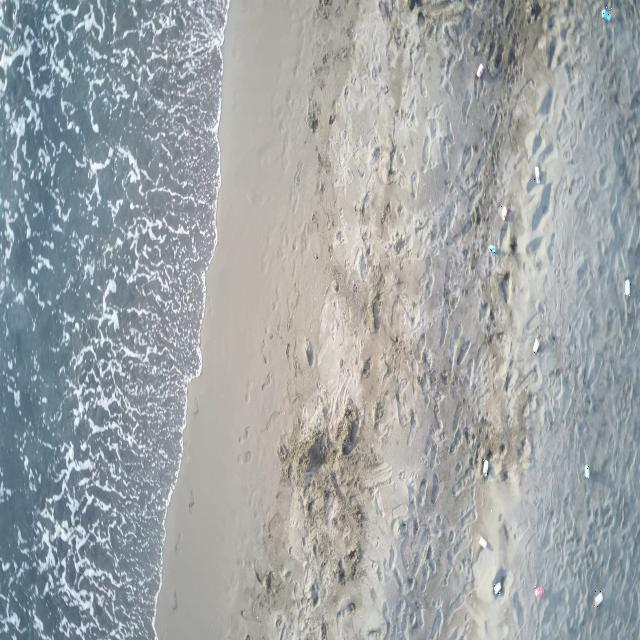Garbage: (493, 568, 504, 595), (593, 592, 603, 607), (533, 584, 544, 597), (500, 204, 508, 220), (475, 63, 484, 77), (492, 580, 500, 595), (602, 7, 611, 20), (477, 536, 487, 547), (532, 337, 539, 352), (624, 279, 630, 296), (533, 166, 539, 183), (482, 460, 487, 476), (488, 244, 496, 252), (584, 464, 587, 477)
